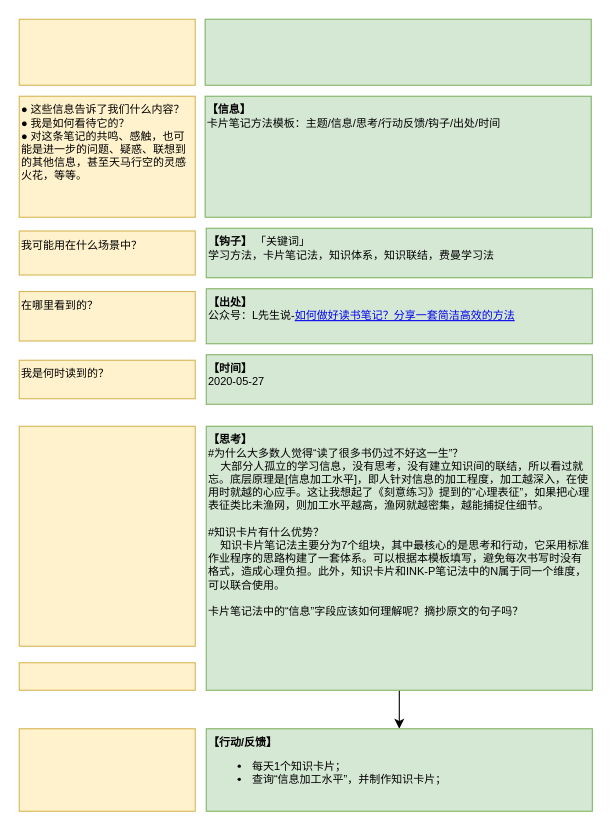
Image size: 612x831. Some labels were removed from this diagram. Here are the shapes that lost their labels. From the top down, the centre of each, then its label:
point (106, 51): ● 这条笔记是关于什么的？ ● 是哪一点吸引了你？ ● 它的核心信息是什么？
point (397, 51): 【主题】 卡片笔记方法，一个即刻可用的SOP套路
point (106, 535): 这条笔记讲述了什么内容？ 把其中描述的新信息提取出来 如果一段笔记没有新信息，那它其实就是无价值的。就算写得再精彩，也不过是把你知道的东西重新讲了一遍而已。
point (106, 676): 「#」表示自己的想法
point (106, 769): 我可以针对他做些什么？
